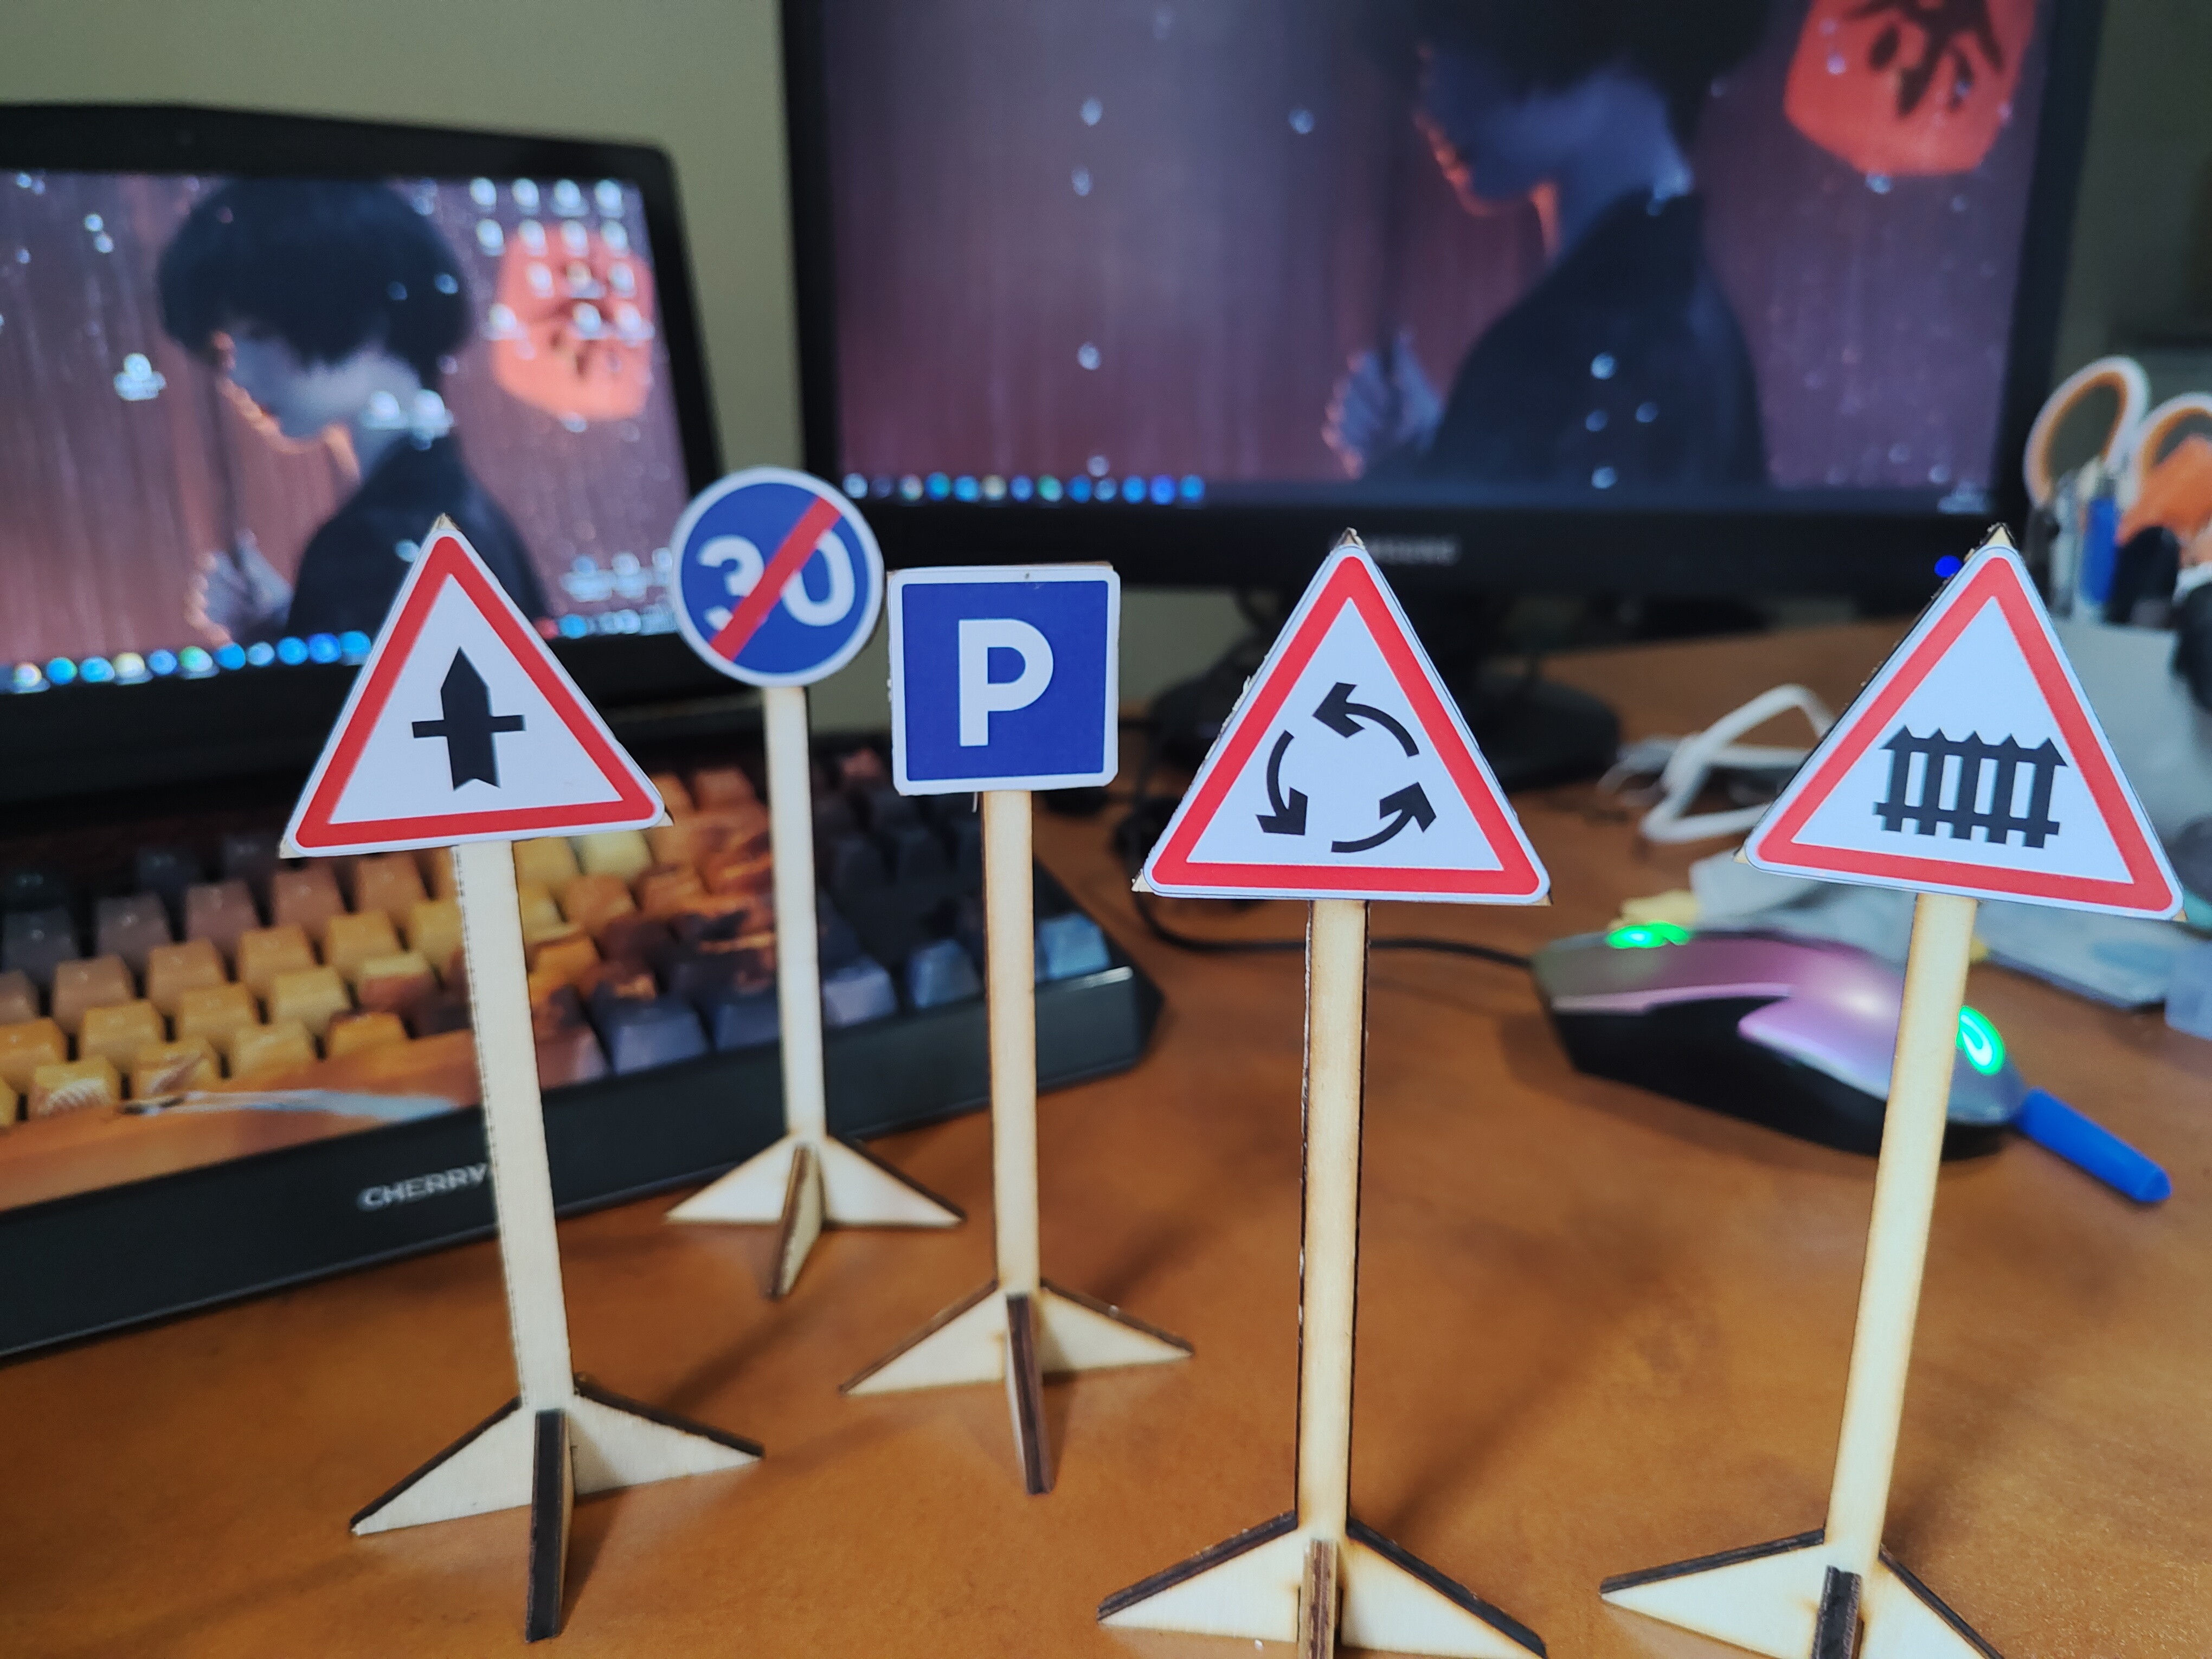P: (888, 558, 1129, 789)
ban: (665, 467, 883, 681)
cycle: (1127, 530, 1576, 906)
first: (273, 514, 658, 856)
train: (1756, 516, 2188, 924)
